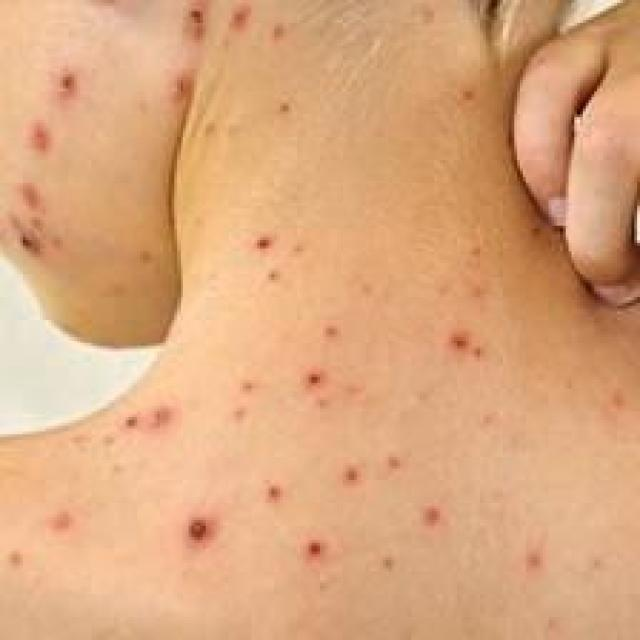others: (0, 5, 580, 640)
